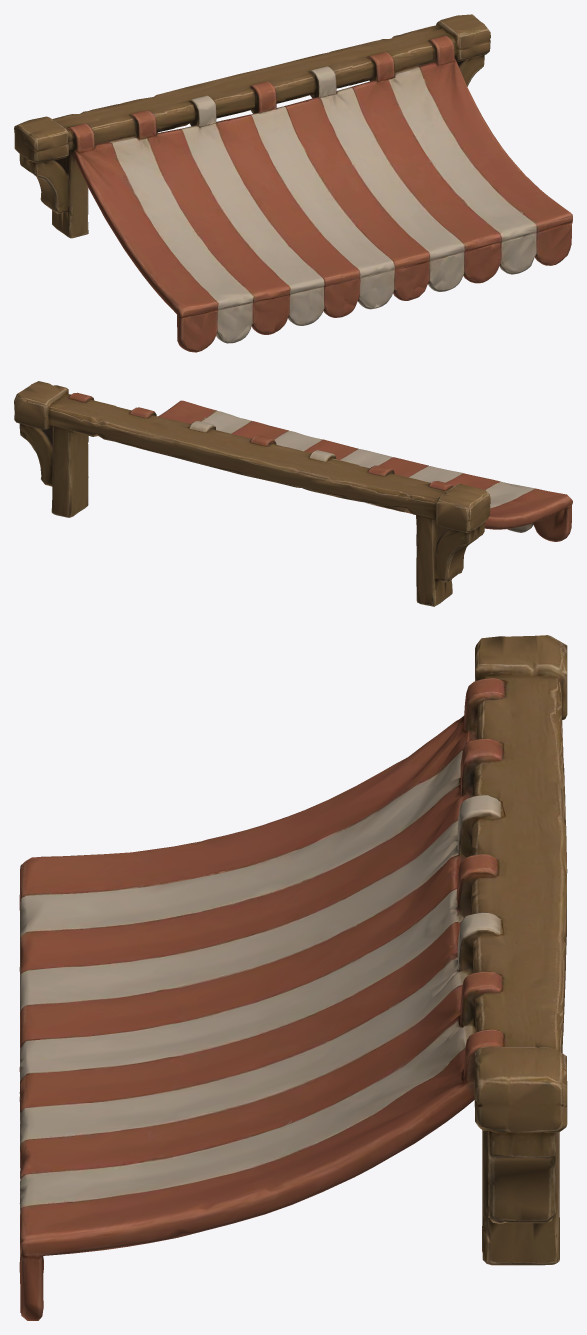
The model's file is trim_awning.glb.
3 views of the same model, one above another, from view 1: azimuth 30°, elevation 25°; view 2: azimuth 150°, elevation 25°; view 3: azimuth 270°, elevation 25° (orthographic). The views are drawn at different scales.
Visible parts, largest first — view 1: tripo_node_60b9095b-8bae-4e36-97bf-1dde512ef241; view 2: tripo_node_60b9095b-8bae-4e36-97bf-1dde512ef241; view 3: tripo_node_60b9095b-8bae-4e36-97bf-1dde512ef241.
Boxes of the visible parts, left/top/right/bottom form: tripo_node_60b9095b-8bae-4e36-97bf-1dde512ef241: left=14, top=14, right=572, bottom=352; tripo_node_60b9095b-8bae-4e36-97bf-1dde512ef241: left=14, top=381, right=572, bottom=606; tripo_node_60b9095b-8bae-4e36-97bf-1dde512ef241: left=19, top=635, right=567, bottom=1320.
Size of the model in its own units: 0.9794 by 0.2946 by 0.5079.
Materials: 1 (1 with a texture image).
